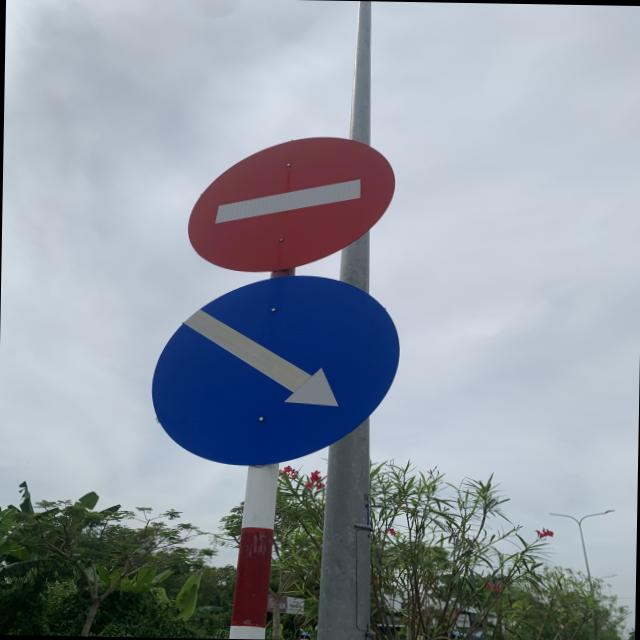Cam_Di_Nguoc_Chieu: (182, 132, 398, 276)
Chi_Huong_Di_Phai: (152, 270, 405, 470)
